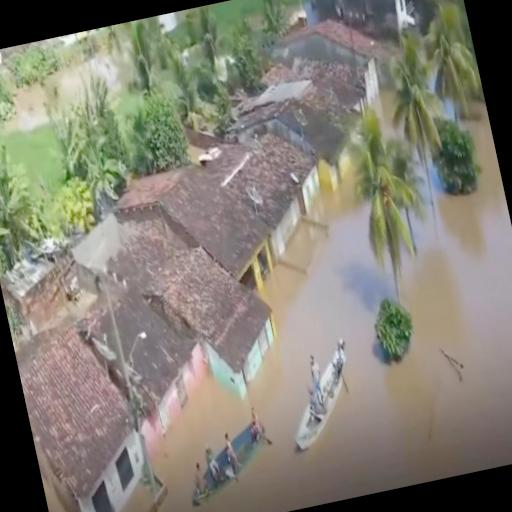flood: (164, 108, 512, 512), (308, 172, 366, 236), (161, 455, 194, 512), (265, 420, 300, 473)
house: (5, 284, 168, 512), (158, 230, 290, 400), (82, 274, 212, 438), (148, 152, 279, 298), (216, 131, 310, 253), (271, 86, 355, 194), (276, 5, 384, 87), (256, 113, 332, 212), (292, 0, 414, 36)
